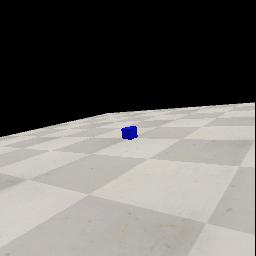box: (121, 126, 138, 140)
